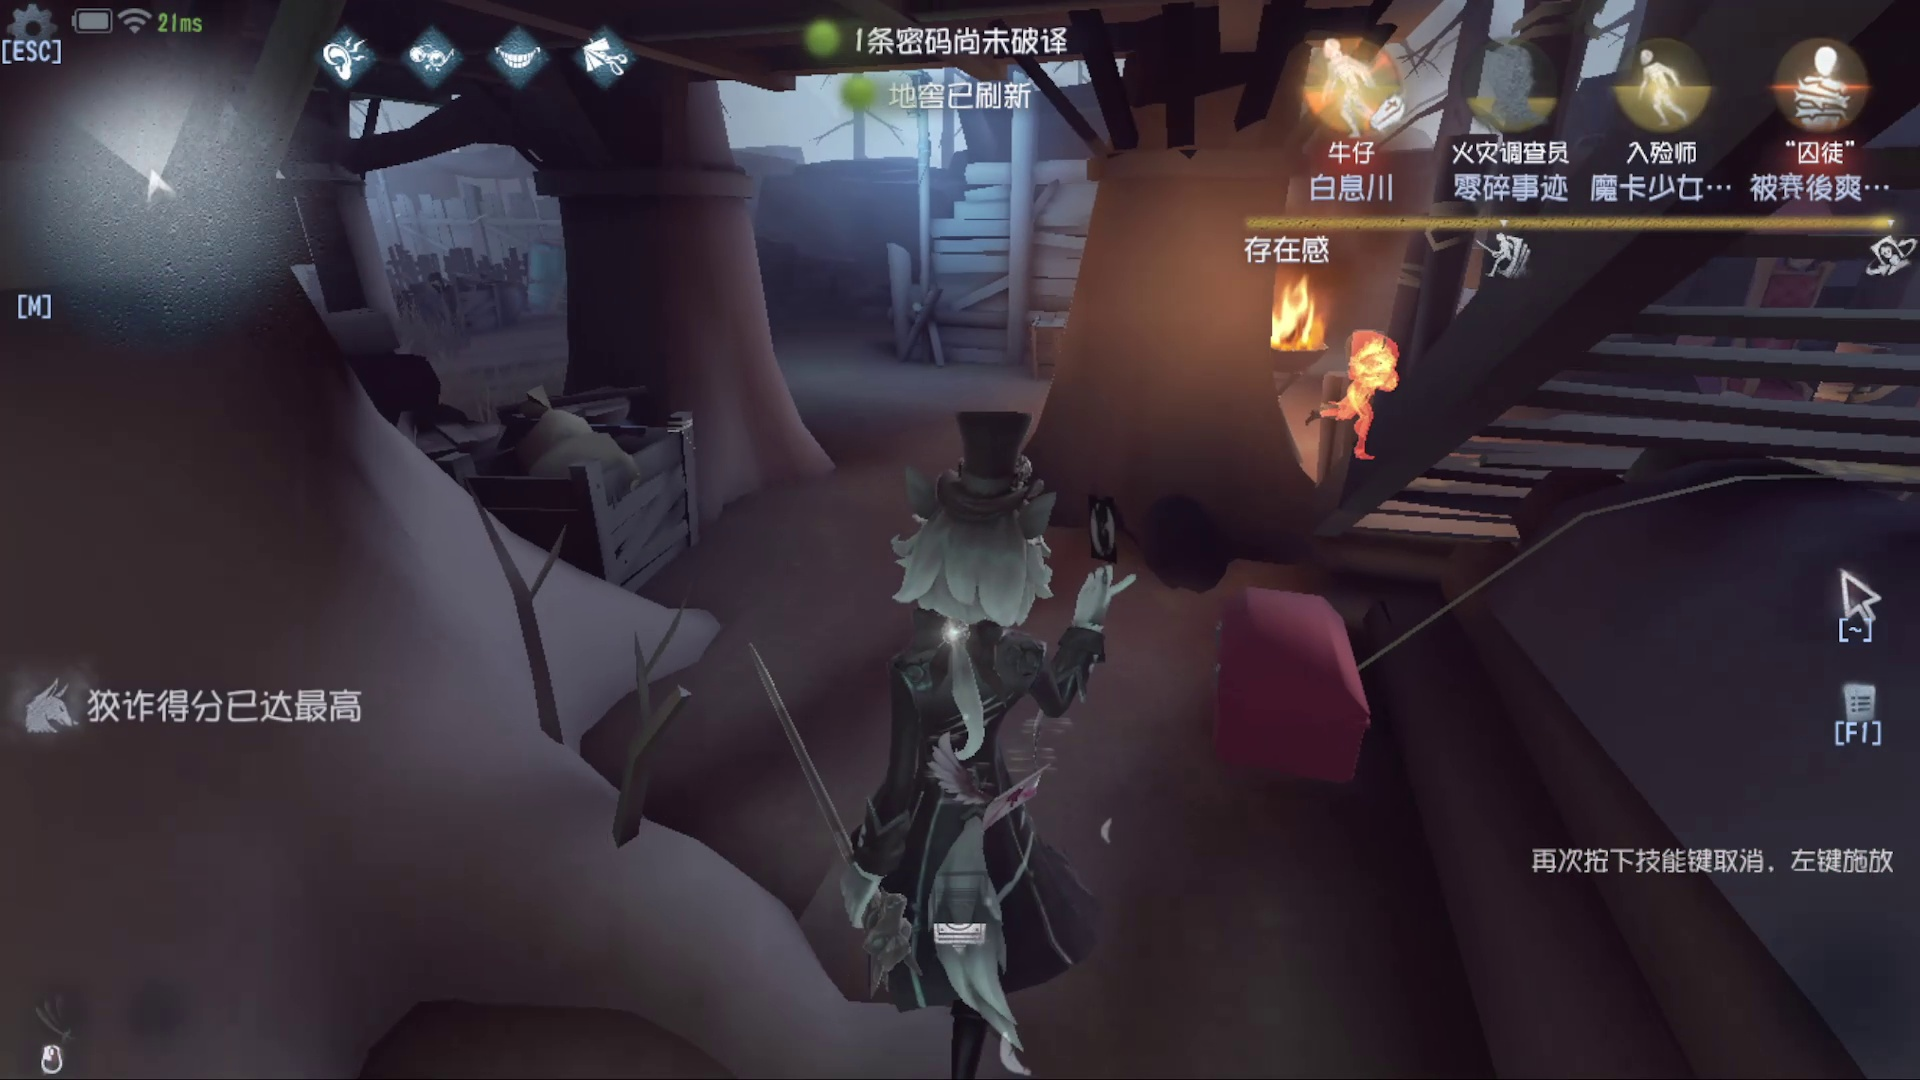求生者: (1324, 326, 1411, 433)
